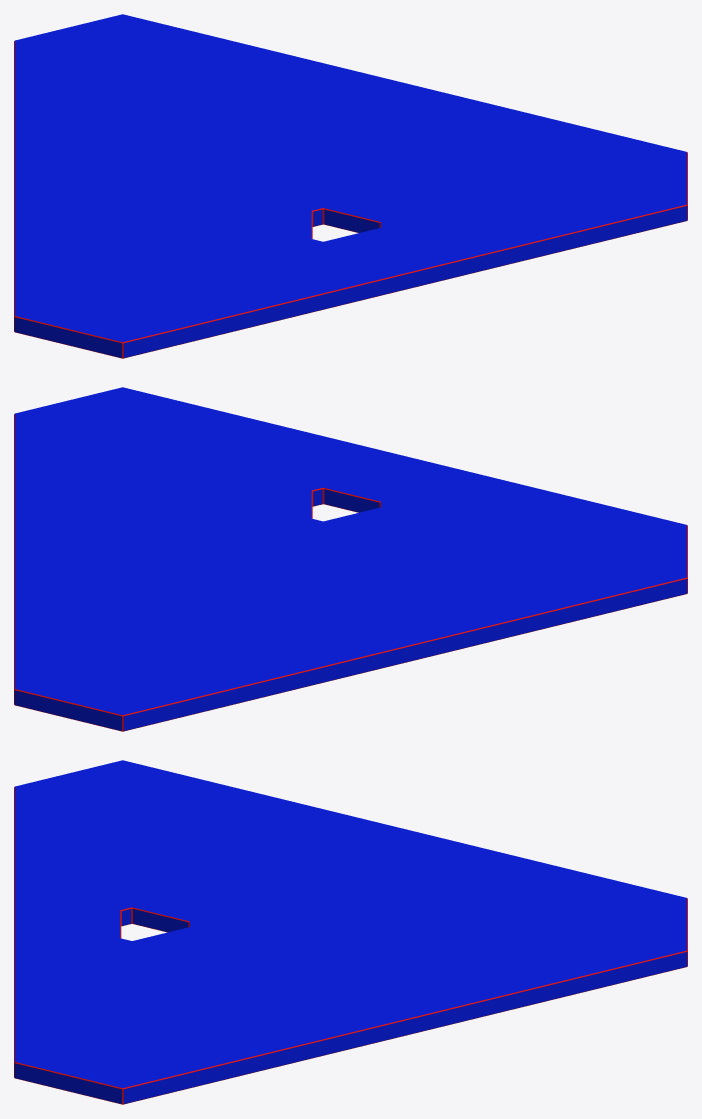
Rendered from L9_Triangle_Top.fbx.
The picture shows the model from 3 angles, top to bottom: view 1: azimuth 30°, elevation 25°; view 2: azimuth 150°, elevation 25°; view 3: azimuth 270°, elevation 25°; orthographic projection.
Parts seen in each view (by area): view 1: L9_Triangle_Top; view 2: L9_Triangle_Top; view 3: L9_Triangle_Top.
Part boxes in pixels (left/top/right/bottom): L9_Triangle_Top: left=14, top=14, right=687, bottom=358; L9_Triangle_Top: left=14, top=387, right=687, bottom=731; L9_Triangle_Top: left=14, top=760, right=687, bottom=1104.
Size of the model in its own units: 4269 by 100 by 3702.
